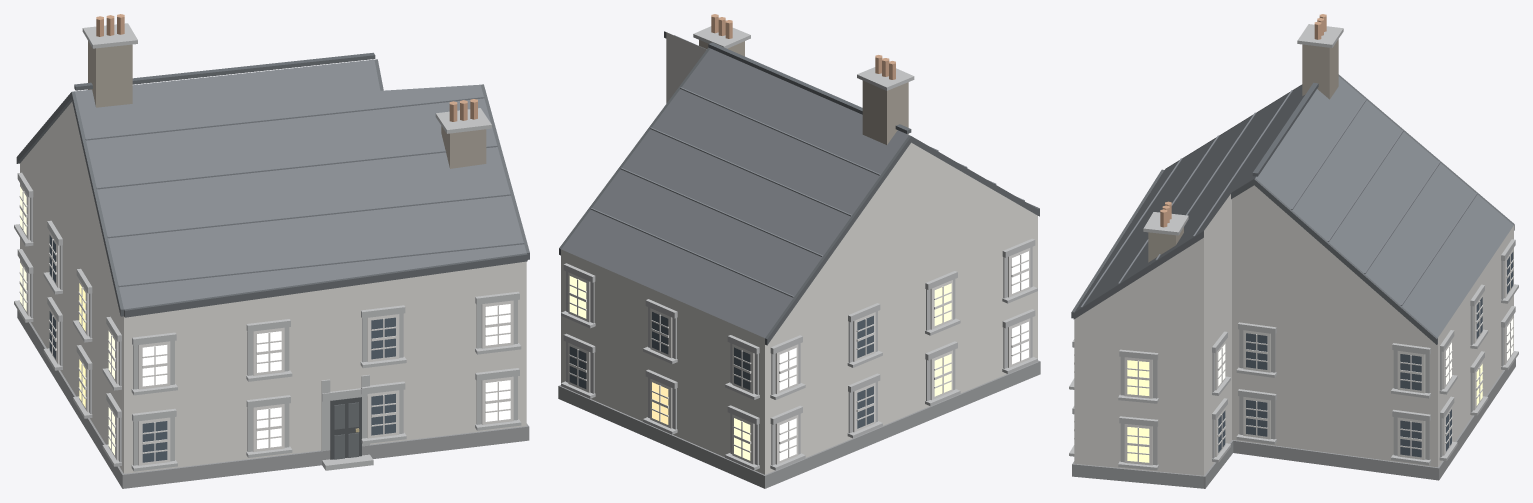
3 renders of one model, left to right at view 1: azimuth 30°, elevation 25°; view 2: azimuth 150°, elevation 25°; view 3: azimuth 270°, elevation 25°, orthographic. The views are drawn at different scales.
Visible parts, largest first — view 1: slate, harl, stone_band, frame, windows, plinth, band_dark, slate_lt, chim_stone, slate_dk, door_dark_p, pot (+1 smaller); view 2: harl, slate, stone_band, frame, windows, plinth, band_dark, chim_stone, slate_lt, slate_dk, pot; view 3: harl, slate, stone_band, frame, plinth, windows, band_dark, slate_lt, chim_stone, slate_dk, pot.
Part boxes in pixels (bbox=[...]): slate: bbox=[75, 59, 526, 309]; harl: bbox=[20, 101, 526, 473]; stone_band: bbox=[14, 23, 521, 471]; frame: bbox=[19, 184, 513, 465]; windows: bbox=[20, 186, 510, 462]; plinth: bbox=[17, 310, 529, 488]; band_dark: bbox=[16, 59, 529, 317]; slate_lt: bbox=[85, 96, 524, 287]; chim_stone: bbox=[88, 41, 486, 168]; slate_dk: bbox=[74, 52, 375, 90]; door_dark_p: bbox=[334, 402, 358, 459]; pot: bbox=[96, 14, 477, 121]; harl: bbox=[561, 32, 1037, 474]; slate: bbox=[561, 48, 908, 337]; stone_band: bbox=[561, 26, 1037, 470]; frame: bbox=[568, 248, 1030, 464]; windows: bbox=[569, 251, 1028, 460]; plinth: bbox=[558, 360, 1040, 488]; band_dark: bbox=[559, 31, 1039, 345]; chim_stone: bbox=[699, 40, 908, 144]; slate_lt: bbox=[590, 35, 1024, 297]; slate_dk: bbox=[708, 42, 911, 133]; pot: bbox=[711, 14, 895, 79]; harl: bbox=[1074, 185, 1513, 475]; slate: bbox=[1075, 76, 1513, 337]; stone_band: bbox=[1069, 24, 1518, 470]; frame: bbox=[1074, 249, 1513, 465]; plinth: bbox=[1072, 359, 1515, 488]; windows: bbox=[1127, 252, 1513, 462]; band_dark: bbox=[1071, 74, 1514, 344]; slate_lt: bbox=[1080, 90, 1477, 307]; chim_stone: bbox=[1148, 39, 1338, 262]; slate_dk: bbox=[1252, 82, 1318, 176]; pot: bbox=[1160, 14, 1326, 227].
Size of the model in its own units: 13.02 by 12.45 by 14.98.
